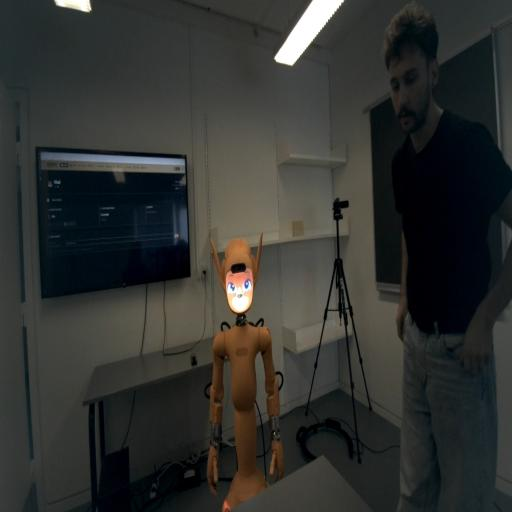Robot: (210, 232, 262, 317)
TV: (40, 154, 187, 287)
